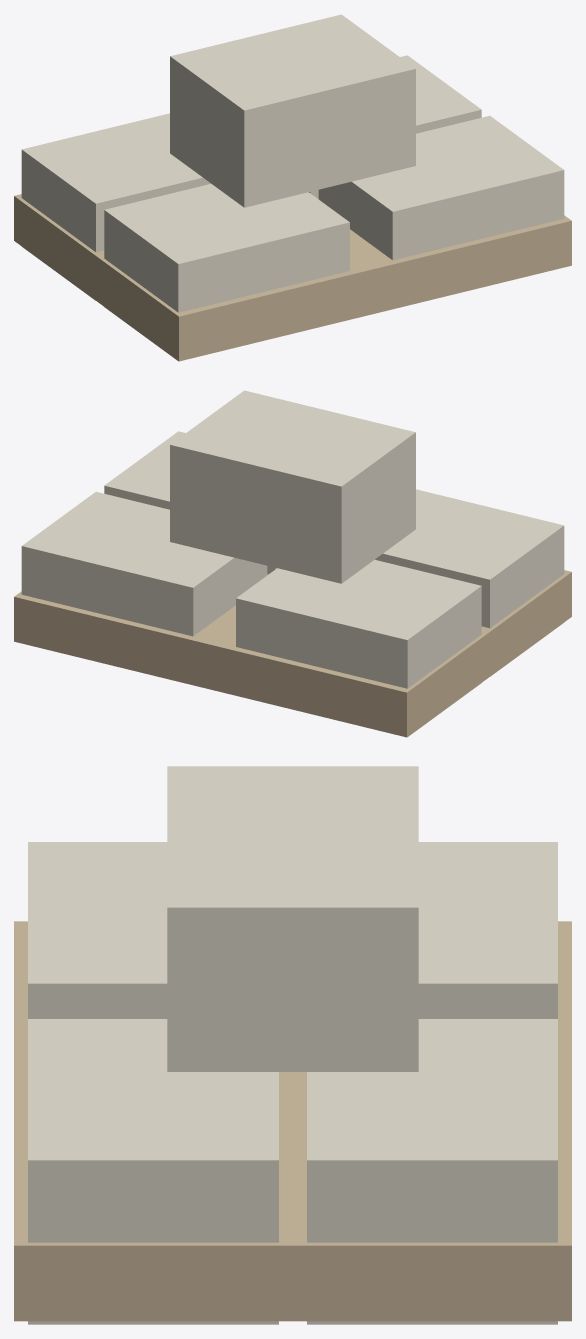
The model's file is prop_sacks.glb.
3 renders of one model, top to bottom at view 1: azimuth 30°, elevation 25°; view 2: azimuth 150°, elevation 25°; view 3: azimuth 270°, elevation 25°, orthographic. The views are drawn at different scales.
Visible parts, largest first — view 1: prop_sacks; view 2: prop_sacks; view 3: prop_sacks.
Boxes of the visible parts, x1=… form: prop_sacks: x1=14, y1=14, x2=571, y2=361; prop_sacks: x1=14, y1=390, x2=571, y2=737; prop_sacks: x1=14, y1=766, x2=571, y2=1324.
Size of the model in its own units: 0.11 by 0.052 by 0.08.
